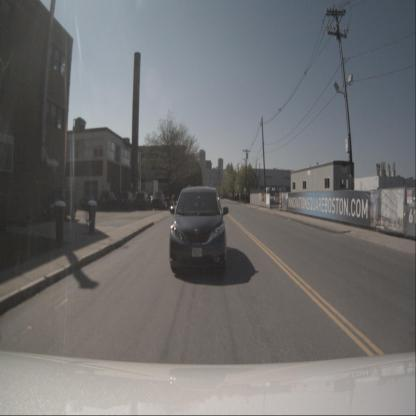vehicle-car: (169, 187, 227, 276), (40, 187, 77, 221), (116, 190, 135, 210), (99, 190, 119, 209), (150, 191, 166, 210), (80, 194, 99, 210), (134, 192, 150, 210), (268, 196, 280, 204)
